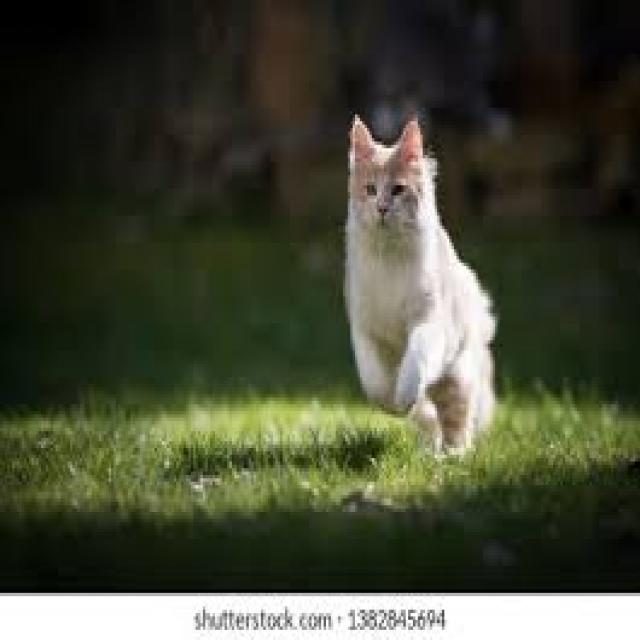Cat: (341, 110, 504, 464)
